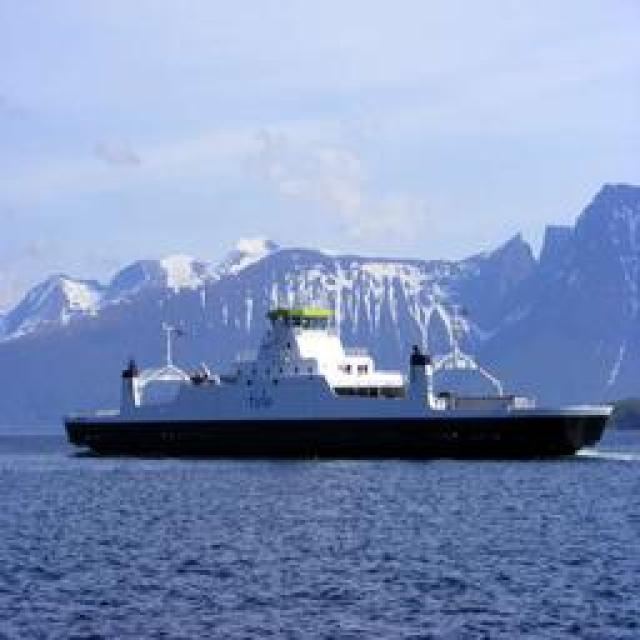ship2: (62, 306, 613, 459)
